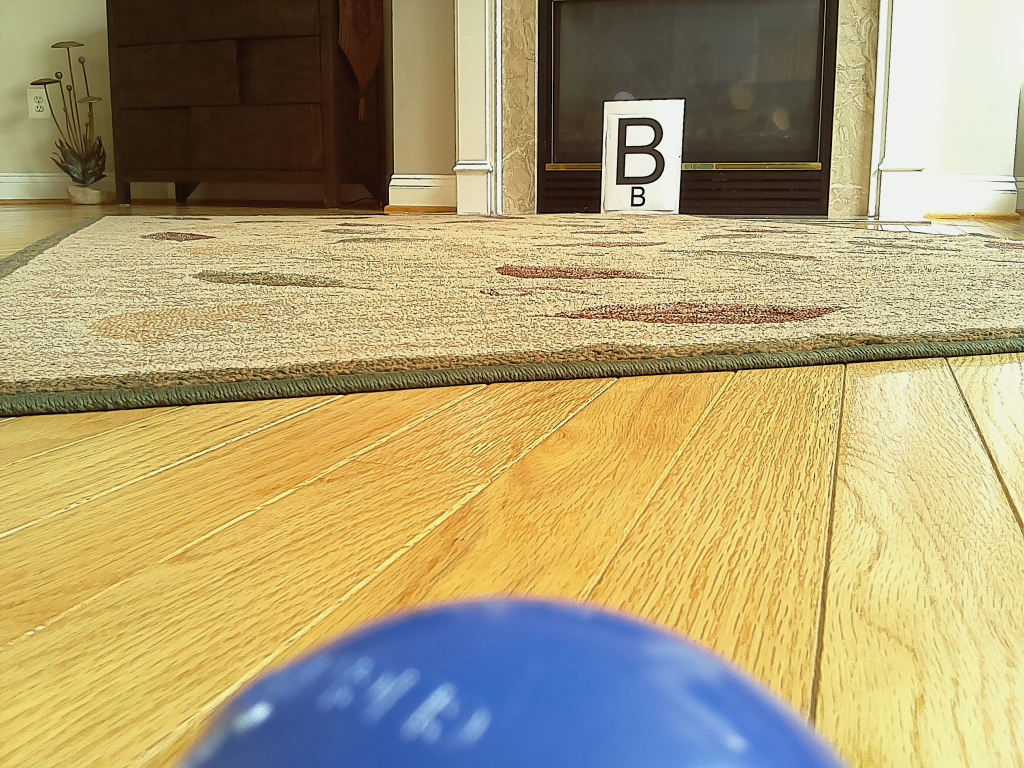letter: (617, 116, 662, 187)
